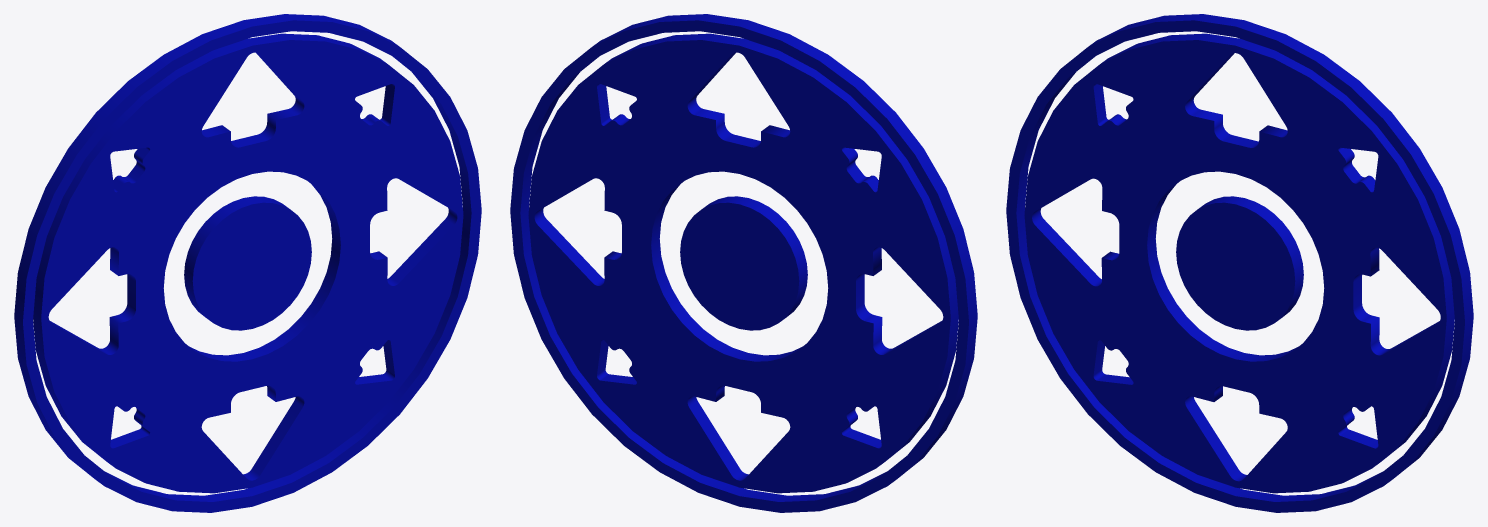
File: Joystick_4.FBX
The picture shows the model from 3 angles, left to right: view 1: azimuth 30°, elevation 25°; view 2: azimuth 150°, elevation 25°; view 3: azimuth 330°, elevation 25°; orthographic projection.
Parts seen in each view (by area): view 1: Joystick_004; view 2: Joystick_004; view 3: Joystick_004.
Part boxes in pixels (box(x1,y1,x2,y2)): Joystick_004: box(14, 14, 481, 512); Joystick_004: box(510, 14, 977, 512); Joystick_004: box(1006, 14, 1473, 512).
Bounding box in the file's own units: 91.74 × 91.74 × 3.
